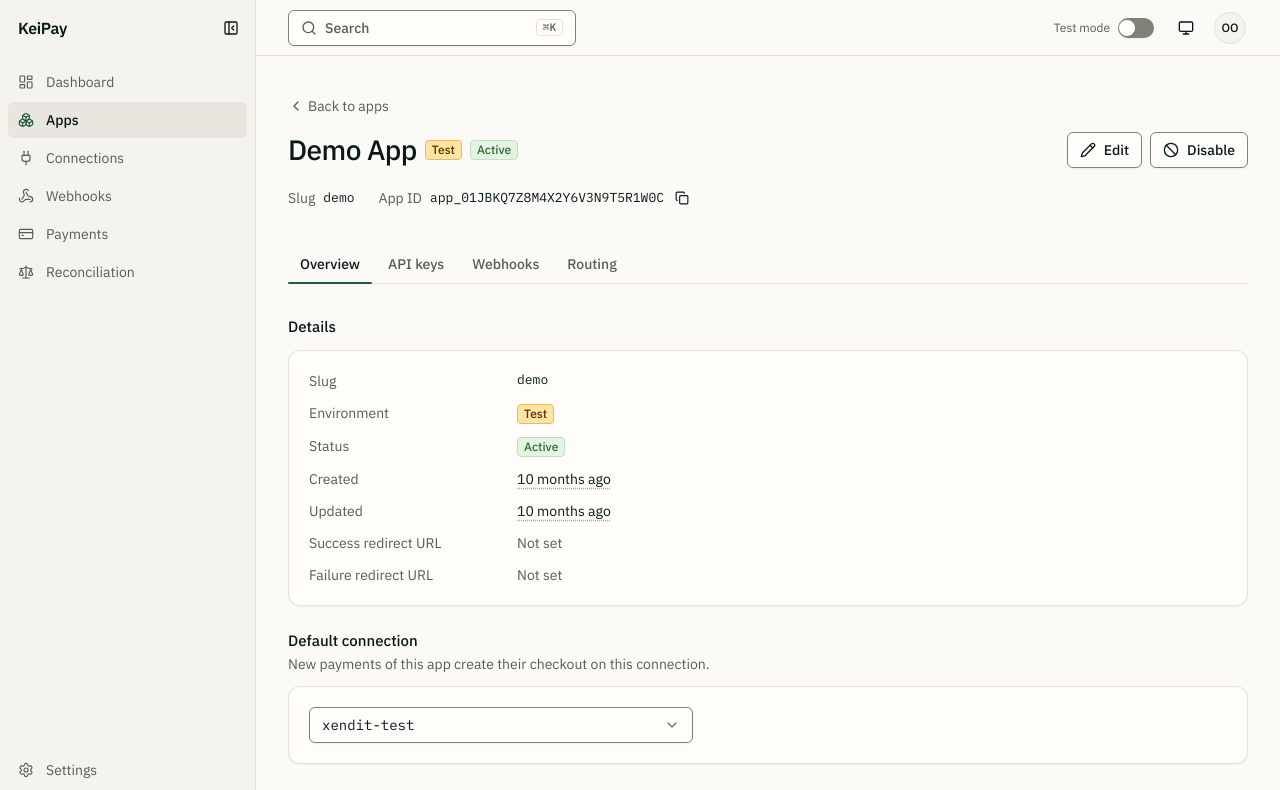
Test: Default connection › sends null for None
Click the dropdown named "Default connection".
click(368, 725)  # box [309, 707, 693, 743]
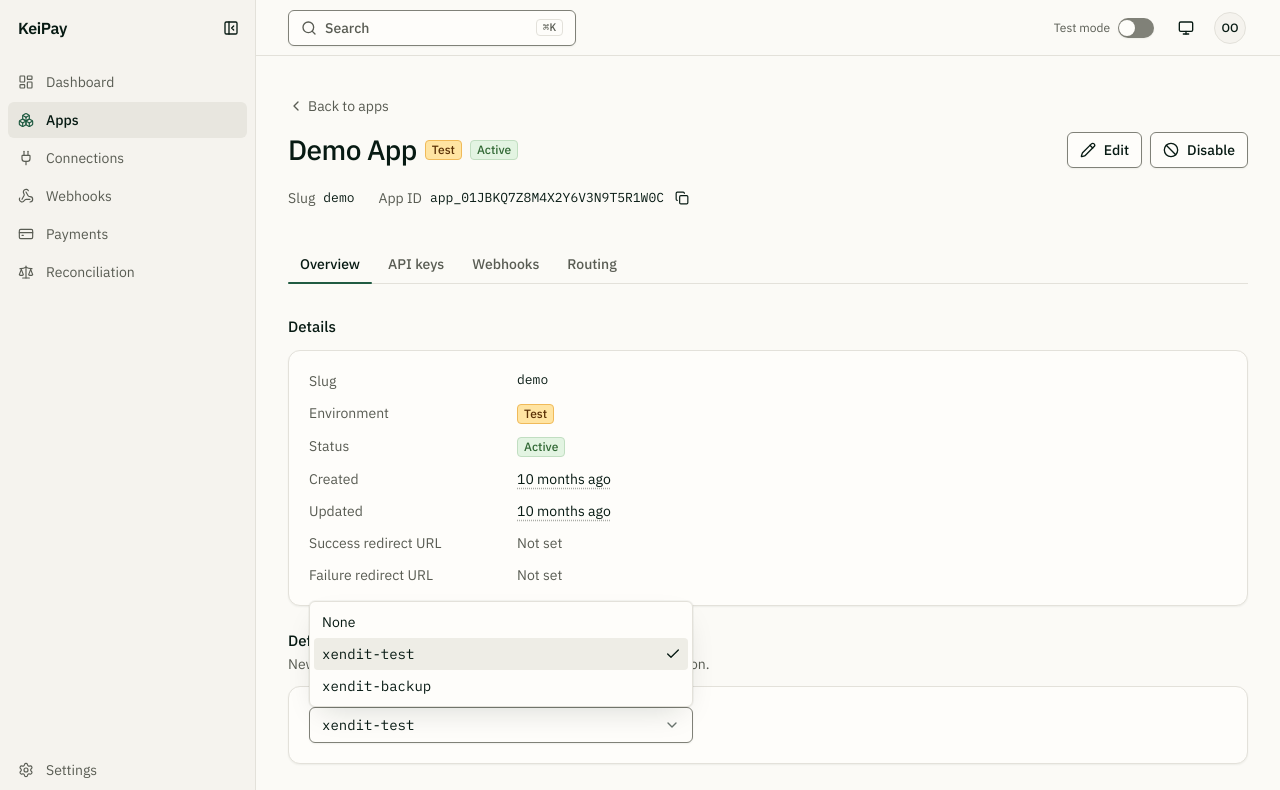
Click the option "None".
click(339, 622)  # box [322, 613, 355, 631]
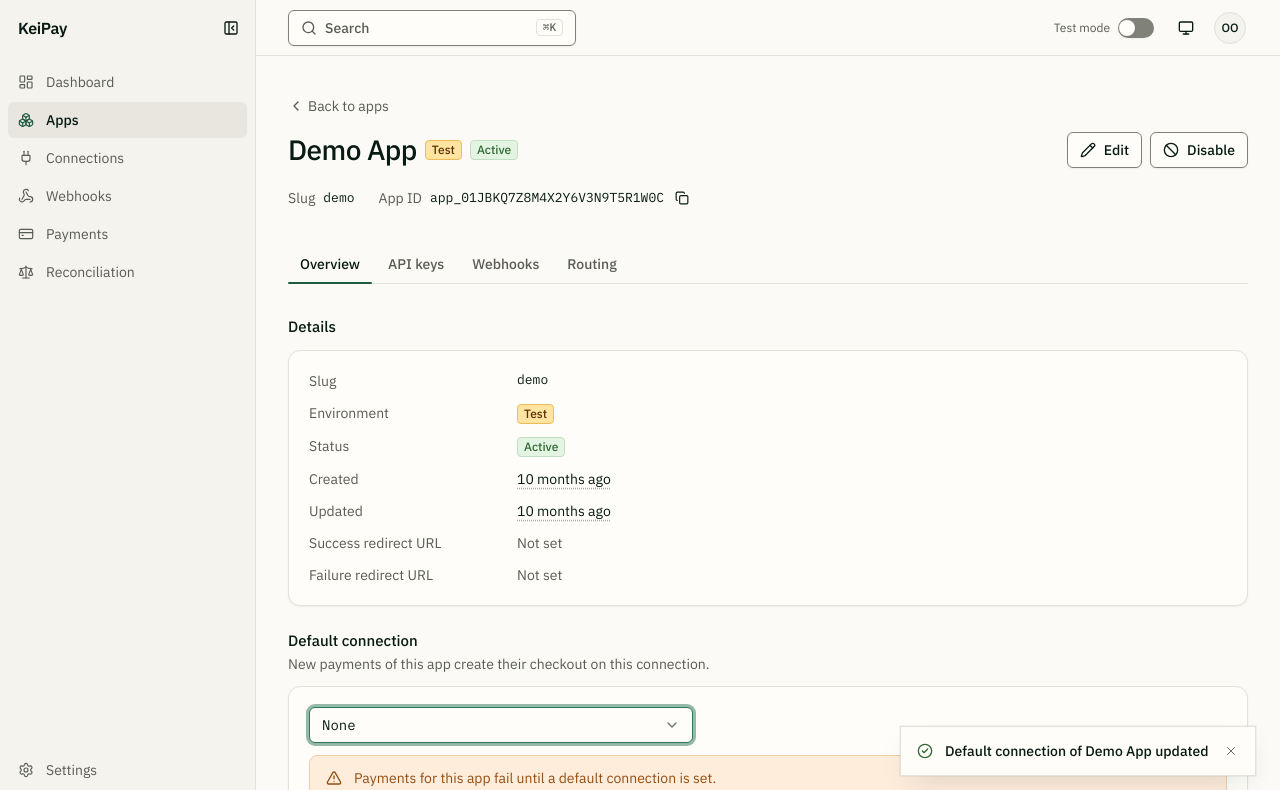
Now the text "Payments for this app fail" is shown, box [354, 769, 716, 787]
